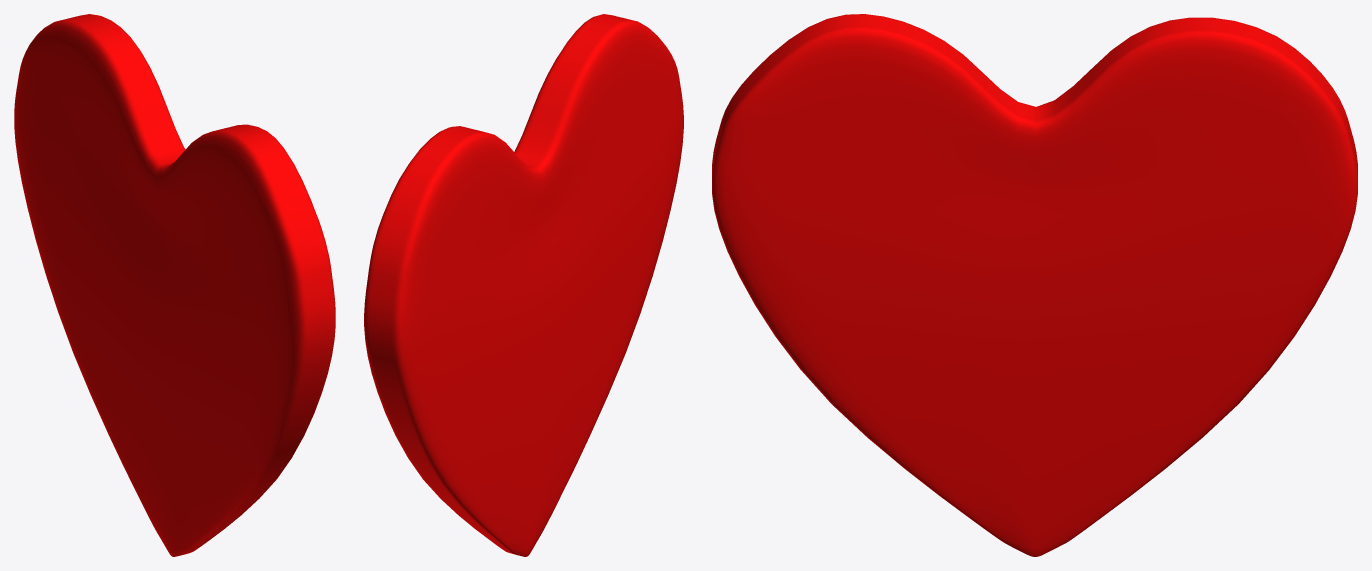
Rendered from heart.fbx.
3 views of the same model, side by side, from view 1: azimuth 30°, elevation 25°; view 2: azimuth 150°, elevation 25°; view 3: azimuth 270°, elevation 25° (orthographic). The views are drawn at different scales.
Parts seen in each view (by area): view 1: 하트여; view 2: 하트여; view 3: 하트여.
Part boxes in pixels (bbox=[...]): 하트여: bbox=[14, 14, 335, 556]; 하트여: bbox=[364, 14, 683, 556]; 하트여: bbox=[712, 14, 1357, 556].
Bounding box in the file's own units: 0.0321 × 0.3389 × 0.3716.
